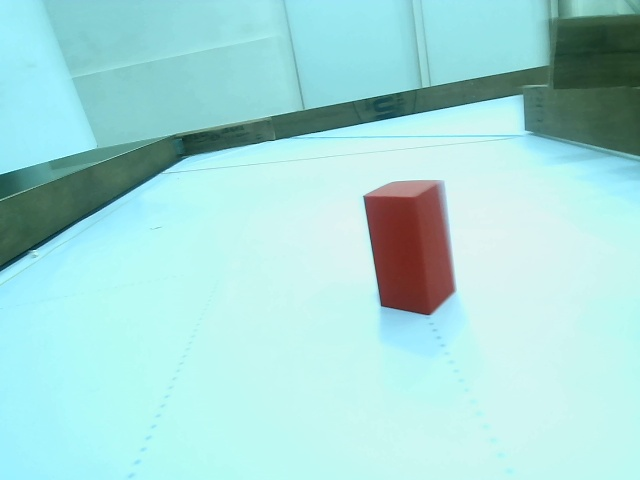red: (368, 183, 457, 313)
